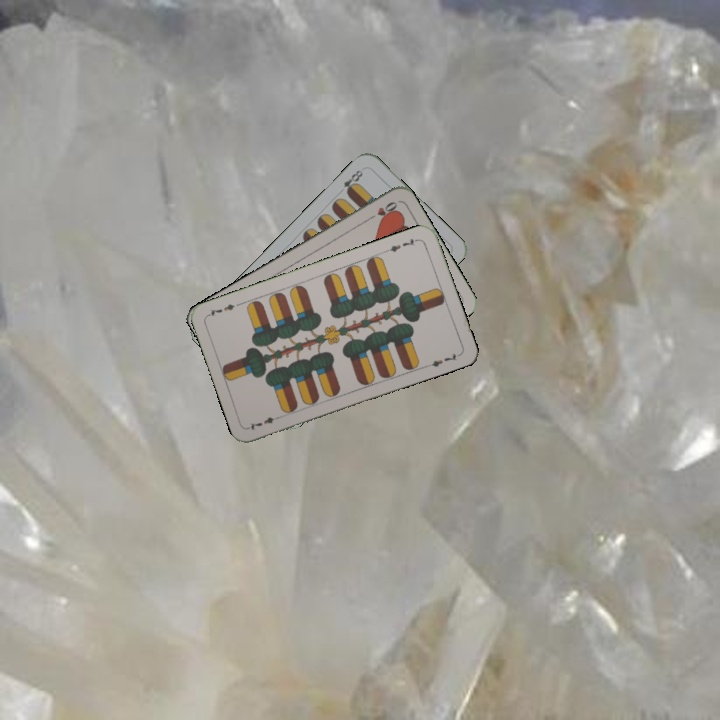E7: (245, 411, 284, 433), (382, 234, 421, 255)
E8: (339, 164, 367, 197)
HO: (363, 197, 400, 223)
